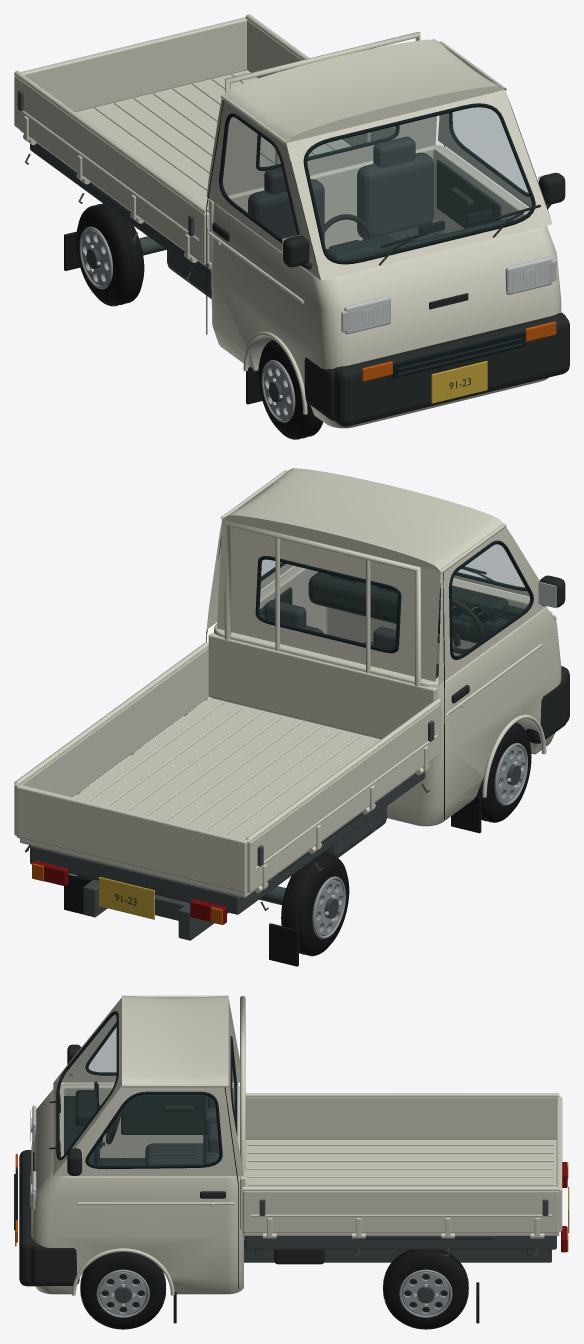
File: kei-truck.glb
3 views of the same model, one above another, from view 1: azimuth 30°, elevation 25°; view 2: azimuth 150°, elevation 25°; view 3: azimuth 270°, elevation 25° (orthographic). The views are drawn at different scales.
Parts seen in each view (by area): view 1: cab pressed lower shell, windshield glass, black pull handle, seat cushion, windshield rubber surround, wheel_rr, floor, wheel_fr, chassis rail, door lock, registration plate, halogen lens (+2 smaller); view 2: cab pressed lower shell, windshield glass, chassis rail, wheel_rr, floor, windshield rubber surround, wheel_fr, mud flap, black pull handle, registration plate, seat cushion, rear stop lamp (+1 smaller); view 3: cab pressed lower shell, windshield glass, chassis rail, black pull handle, wheel_rl, wheel_fl, floor, windshield rubber surround, seat cushion.
Boxes of the visible parts, bbox=[...] form: cab pressed lower shell: bbox=[14, 14, 561, 428]; windshield glass: bbox=[222, 107, 531, 260]; black pull handle: bbox=[212, 173, 569, 426]; seat cushion: bbox=[248, 136, 445, 264]; windshield rubber surround: bbox=[206, 100, 535, 378]; wheel_rr: bbox=[76, 203, 144, 306]; floor: bbox=[317, 159, 514, 268]; wheel_fr: bbox=[258, 339, 322, 439]; chassis rail: bbox=[17, 90, 211, 298]; door lock: bbox=[217, 172, 556, 334]; registration plate: bbox=[431, 361, 487, 403]; halogen lens: bbox=[351, 263, 550, 331]; cab pressed lower shell: bbox=[14, 468, 561, 897]; windshield glass: bbox=[259, 544, 530, 655]; chassis rail: bbox=[25, 720, 434, 940]; wheel_rr: bbox=[281, 853, 349, 956]; floor: bbox=[259, 572, 524, 678]; windshield rubber surround: bbox=[206, 536, 533, 819]; wheel_fr: bbox=[477, 722, 531, 822]; mud flap: bbox=[64, 795, 481, 966]; black pull handle: bbox=[312, 566, 569, 743]; registration plate: bbox=[98, 877, 154, 919]; seat cushion: bbox=[260, 600, 396, 649]; rear stop lamp: bbox=[32, 860, 226, 924]; cab pressed lower shell: bbox=[31, 995, 562, 1295]; windshield glass: bbox=[59, 1014, 235, 1165]; chassis rail: bbox=[244, 1199, 556, 1262]; black pull handle: bbox=[14, 1044, 324, 1286]; wheel_rl: bbox=[383, 1249, 468, 1329]; wheel_fl: bbox=[80, 1252, 165, 1329]; floor: bbox=[64, 1084, 203, 1165]; windshield rubber surround: bbox=[15, 1011, 238, 1289]; seat cushion: bbox=[145, 1095, 219, 1165].
Bounding box in the file's own units: 1.63 × 1.72 × 3.41.
